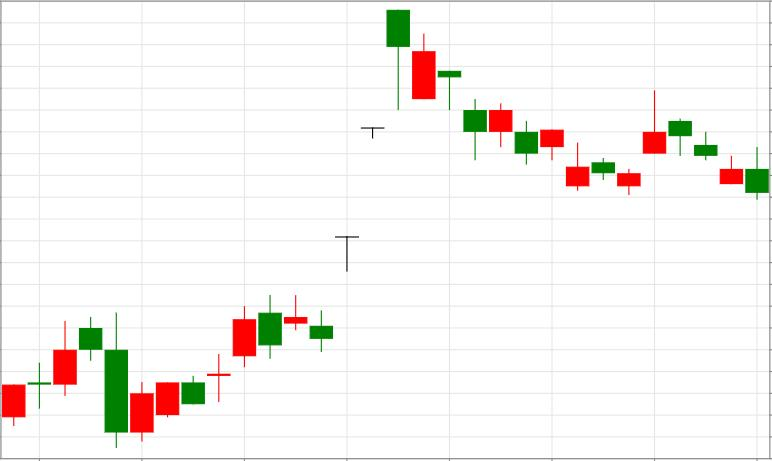hanging_man_fall: (207, 9, 411, 402)
